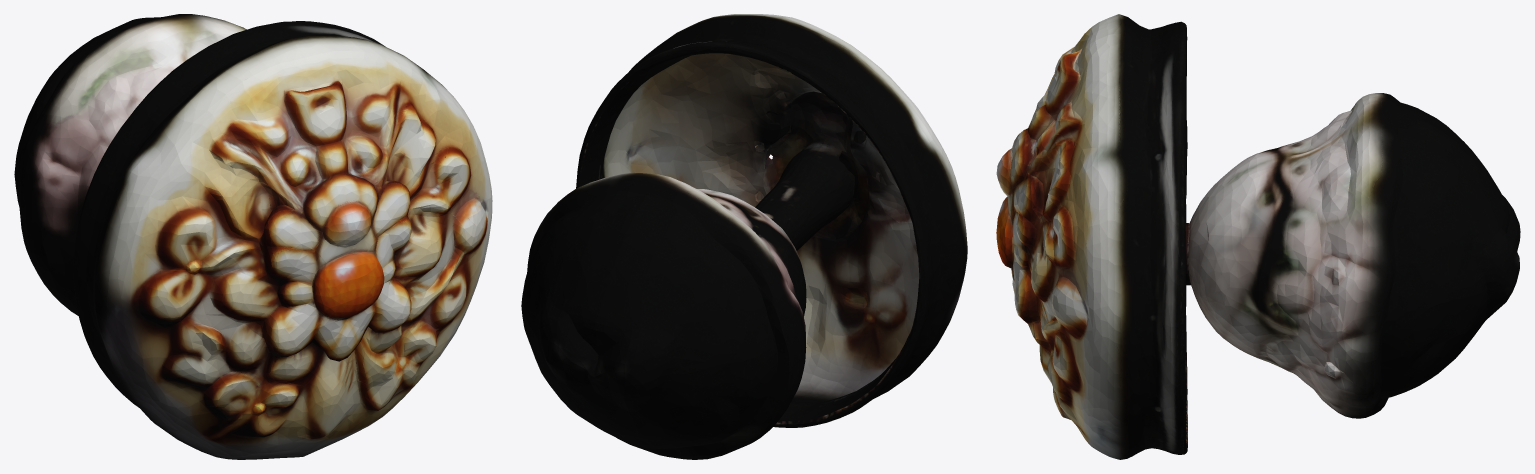
File: ceramic-drawer-knob-japanese.jpeg.glb
The picture shows the model from 3 angles, left to right: view 1: azimuth 30°, elevation 25°; view 2: azimuth 150°, elevation 25°; view 3: azimuth 270°, elevation 25°; orthographic projection. The views are drawn at different scales.
Parts seen in each view (by area): view 1: world; view 2: world; view 3: world.
Part boxes in pixels (left/top/right/bottom): world: left=14, top=14, right=492, bottom=459; world: left=521, top=14, right=967, bottom=459; world: left=996, top=14, right=1520, bottom=459.
Bounding box in the file's own units: 0.8481 × 0.8507 × 0.9986.
Materials: 1 (1 with a texture image).
